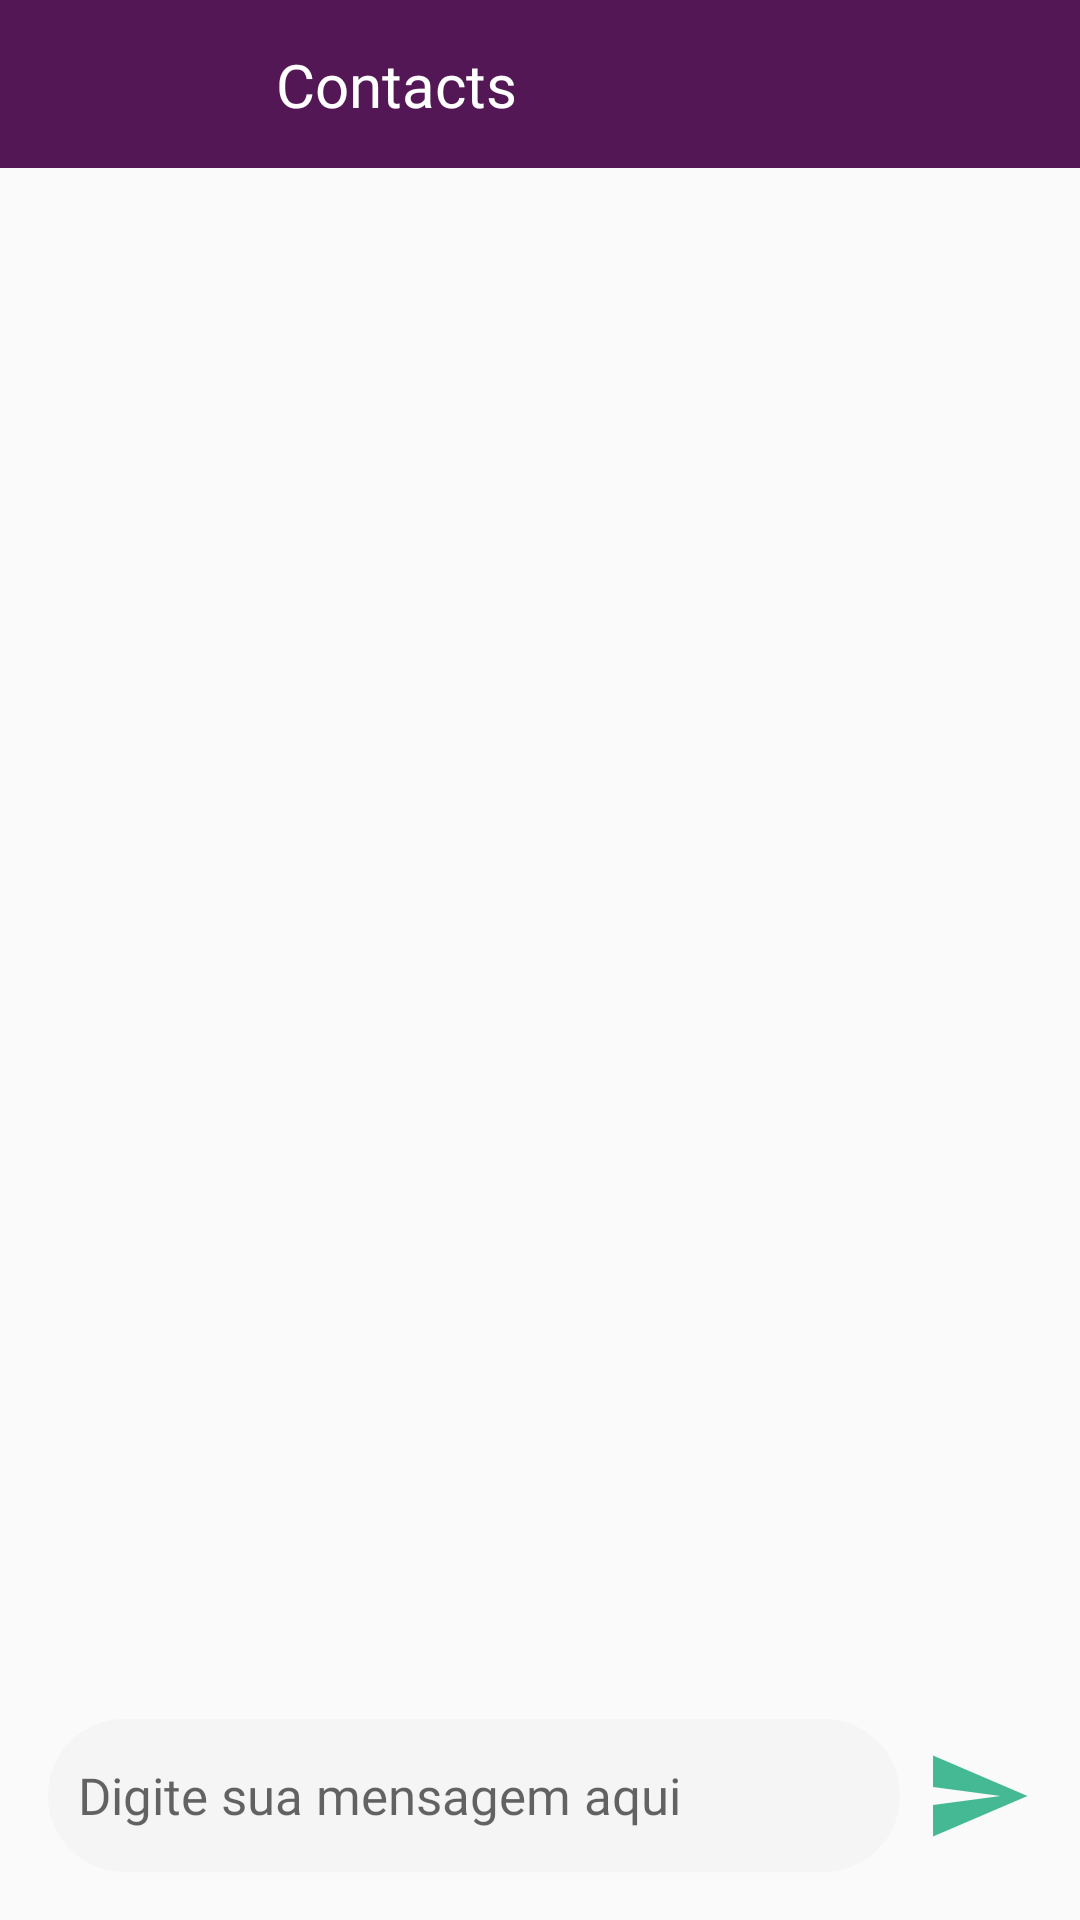

Named icons in this screenshot (1080*1920) and their bounding boxes, (x1, y1, x2, y2):
send: (933, 1755, 1027, 1837)
